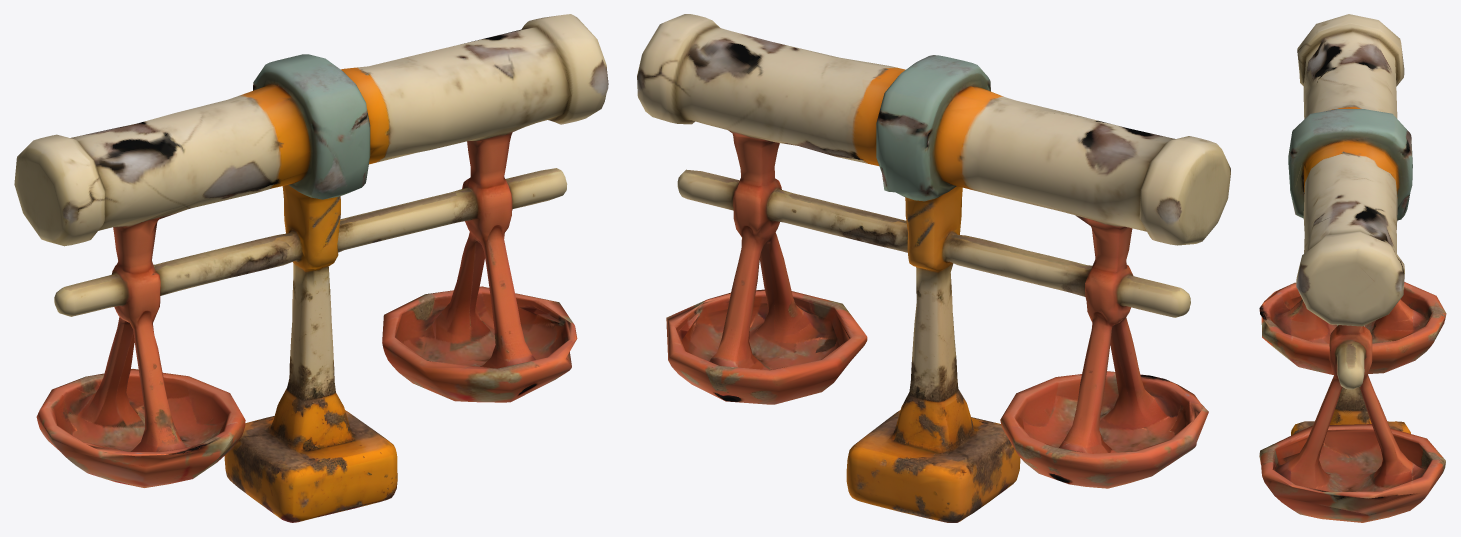
Rendered from 13PipeDirty.fbx.
The picture shows the model from 3 angles, left to right: view 1: azimuth 30°, elevation 25°; view 2: azimuth 150°, elevation 25°; view 3: azimuth 270°, elevation 25°; orthographic projection. The views are drawn at different scales.
Parts seen in each view (by area): view 1: Mesh_0; view 2: Mesh_0; view 3: Mesh_0.
Part boxes in pixels (x1=…): Mesh_0: x1=14, y1=14, x2=608, y2=522; Mesh_0: x1=637, y1=14, x2=1230, y2=522; Mesh_0: x1=1259, y1=14, x2=1446, y2=522.
Size of the model in its own units: 191 by 141 by 63.84.
